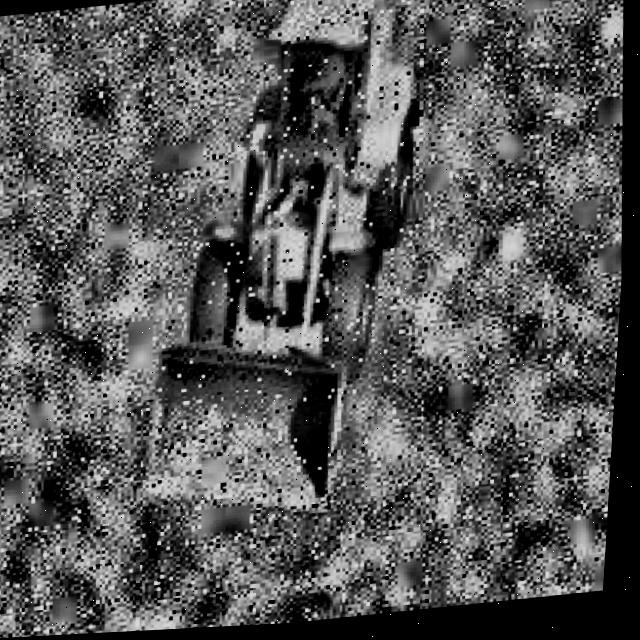buldozerpayloadergrader: (108, 0, 454, 539)
